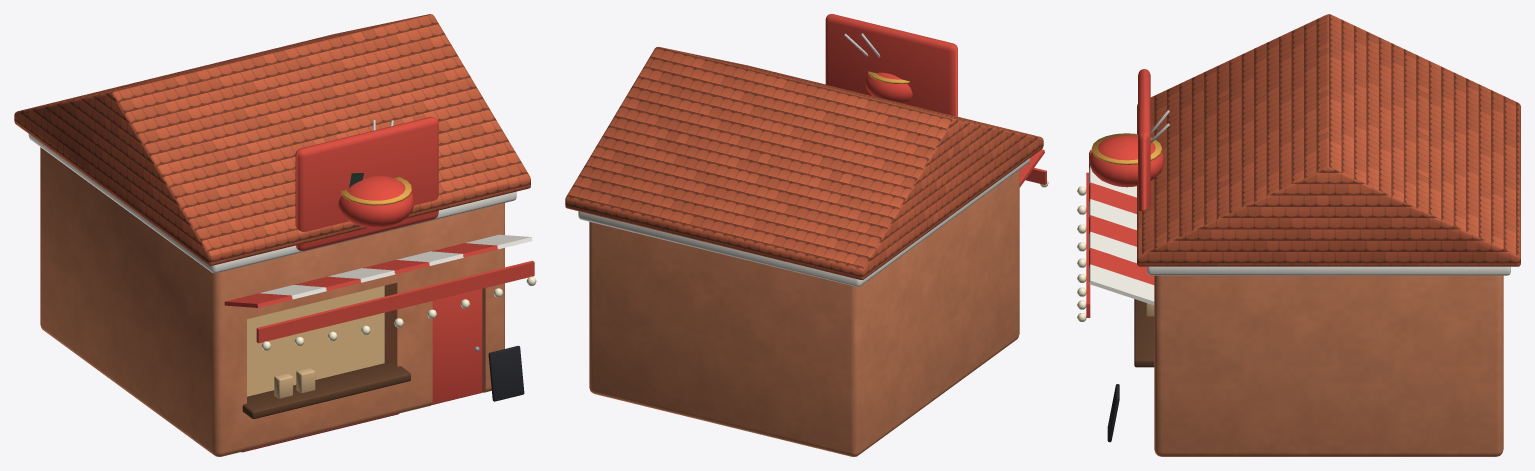
File: restaurant_ramen.gltf
The picture shows the model from 3 angles, left to right: view 1: azimuth 30°, elevation 25°; view 2: azimuth 150°, elevation 25°; view 3: azimuth 270°, elevation 25°; orthographic projection. The views are drawn at different scales.
Visible parts, largest first — view 1: restaurant_ramen_mesh, INT_door_restaurant_ramen, restaurant_ramen_sign, INT_counter_ramen; view 2: restaurant_ramen_mesh, restaurant_ramen_sign; view 3: restaurant_ramen_mesh, restaurant_ramen_sign, INT_counter_ramen.
Part boxes in pixels (x1=…): restaurant_ramen_mesh: x1=14, y1=14, x2=534, y2=456; INT_door_restaurant_ramen: x1=432, y1=289, x2=482, y2=404; restaurant_ramen_sign: x1=261, y1=120, x2=536, y2=350; INT_counter_ramen: x1=242, y1=362, x2=410, y2=418; restaurant_ramen_mesh: x1=565, y1=14, x2=1046, y2=456; restaurant_ramen_sign: x1=844, y1=33, x2=1048, y2=187; restaurant_ramen_mesh: x1=1086, y1=14, x2=1520, y2=456; restaurant_ramen_sign: x1=1077, y1=110, x2=1169, y2=321; INT_counter_ramen: x1=1134, y1=299, x2=1154, y2=367.
Size of what is drawn, in the model's own units: 7.3 by 6.64 by 8.9.
